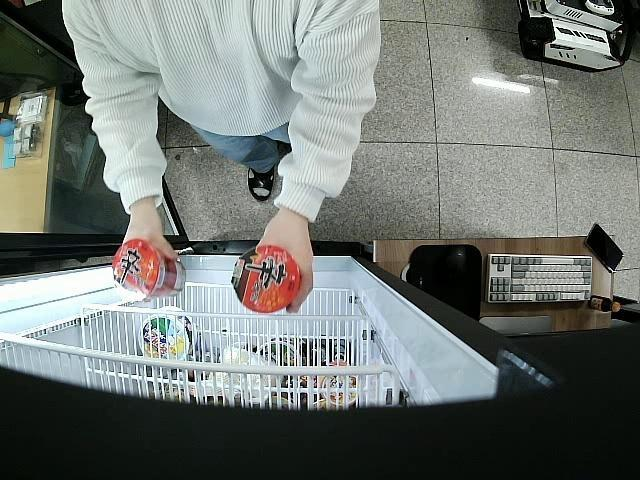02_shinRamen_S: (112, 238, 186, 305), (230, 245, 300, 312)
